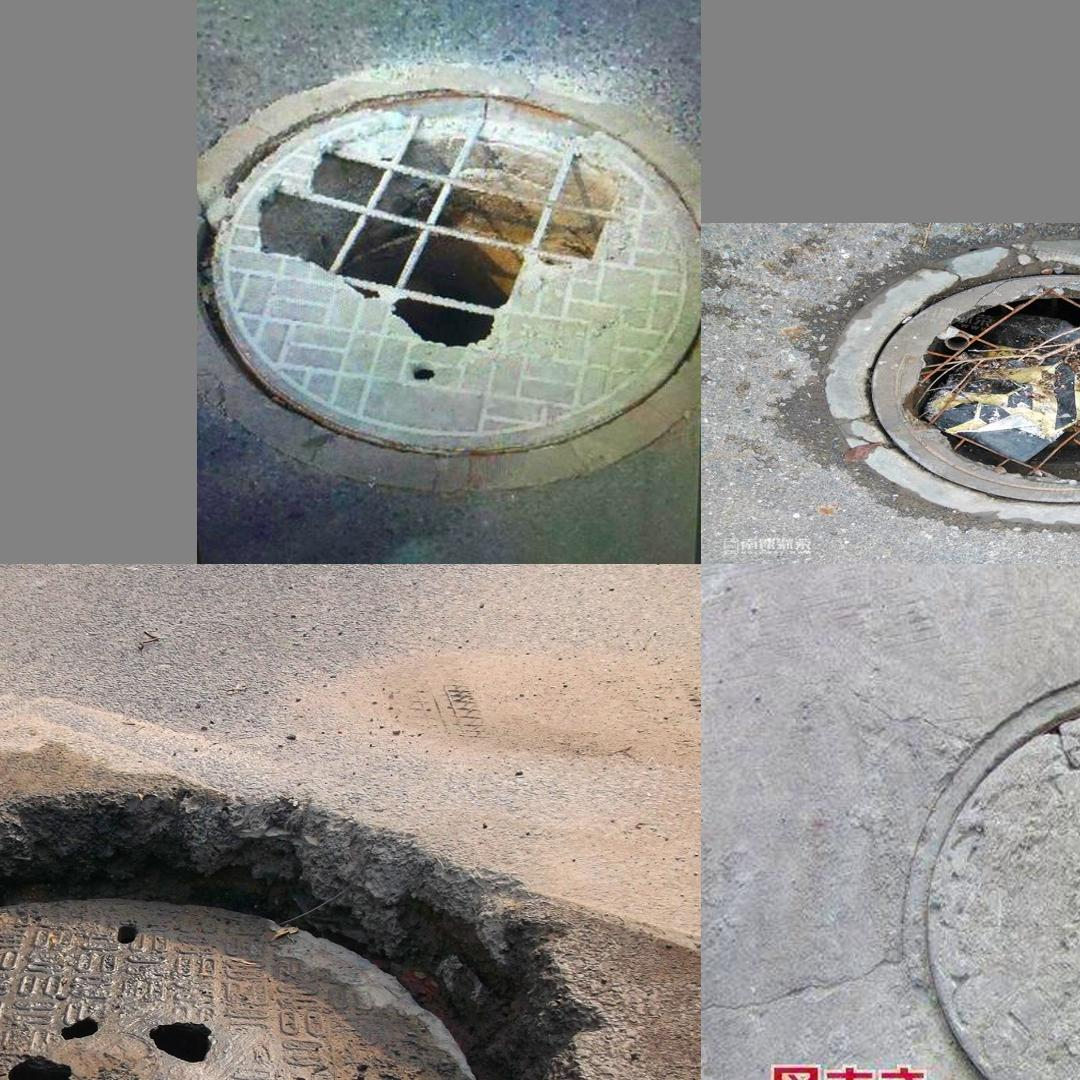broke: (207, 35, 696, 482), (0, 897, 486, 1080), (791, 235, 1080, 533), (883, 648, 1080, 1080)
